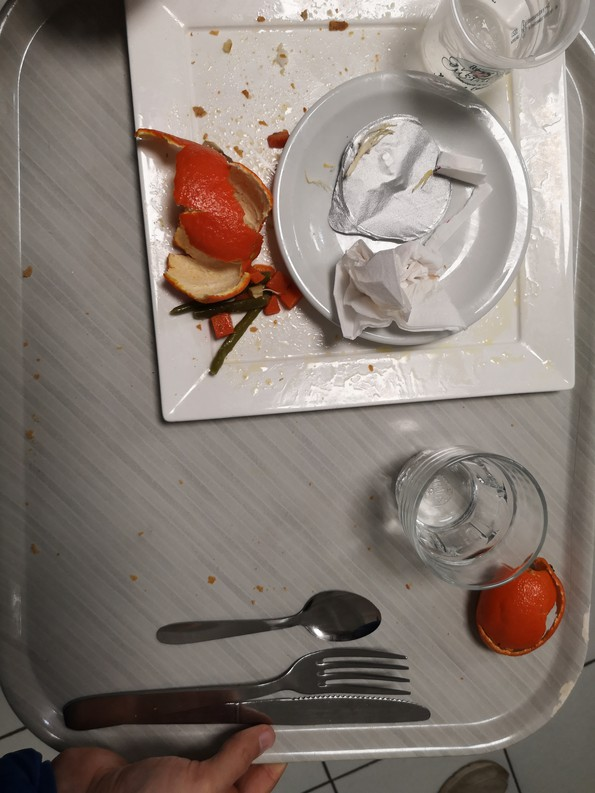orga: (128, 115, 289, 365), (466, 546, 566, 663)
trash: (329, 235, 470, 354), (333, 115, 466, 238), (421, 1, 595, 90)
